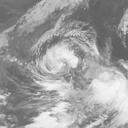cyclone: (33, 33, 91, 94)
